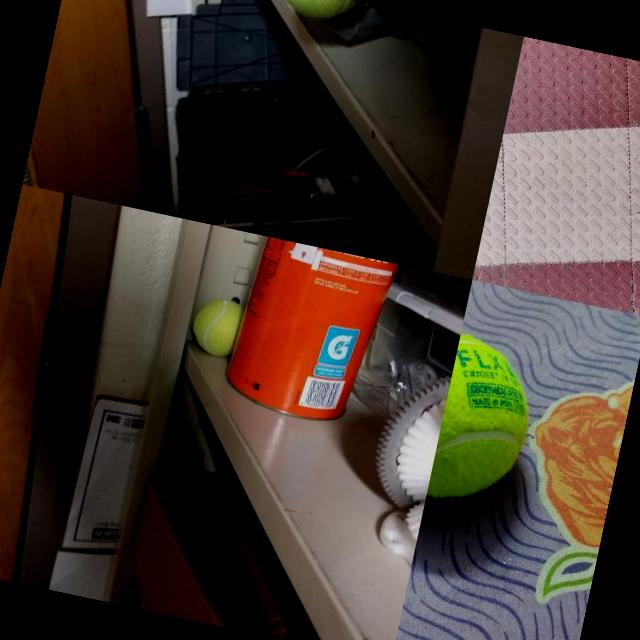tennis-ball: (426, 332, 544, 514), (186, 292, 242, 358), (267, 0, 362, 27)
